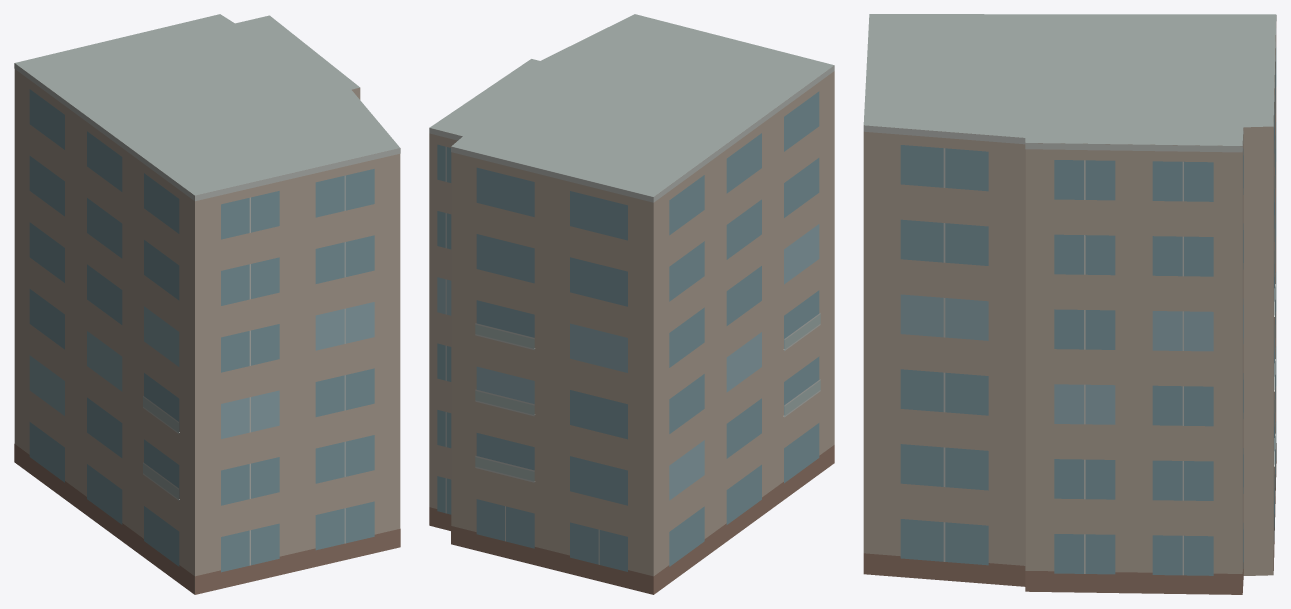
The model's file is survey-upis-32712383.glb.
3 renders of one model, left to right at view 1: azimuth 30°, elevation 25°; view 2: azimuth 150°, elevation 25°; view 3: azimuth 270°, elevation 25°, orthographic. The views are drawn at different scales.
Parts seen in each view (by area): view 1: survey-upis-32712383.tmp; view 2: survey-upis-32712383.tmp; view 3: survey-upis-32712383.tmp.
Part boxes in pixels (x1,y1,x2,y2): survey-upis-32712383.tmp: (14,14,400,594); survey-upis-32712383.tmp: (429,14,834,594); survey-upis-32712383.tmp: (863,14,1276,594).
Bounding box in the file's own units: 10.9 × 17.2 × 14.35.
